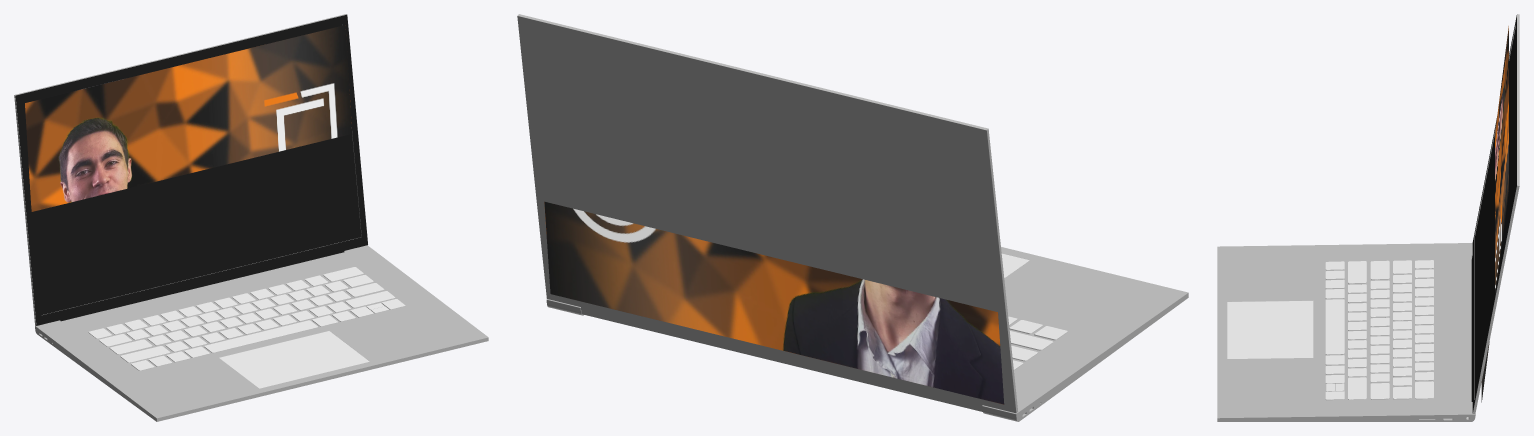
3 views of the same model, side by side, from view 1: azimuth 30°, elevation 25°; view 2: azimuth 150°, elevation 25°; view 3: azimuth 270°, elevation 25° (orthographic). The views are drawn at different scales.
Visible parts, largest first — view 1: Silver colour Cover, Screen; view 2: Silver colour Cover, Screen; view 3: Silver colour Cover, Screen.
Boxes of the visible parts, x1=… form: Silver colour Cover: x1=14, y1=14, x2=488, y2=421; Screen: x1=25, y1=25, x2=351, y2=211; Silver colour Cover: x1=517, y1=14, x2=1188, y2=421; Screen: x1=544, y1=201, x2=1004, y2=404; Silver colour Cover: x1=1217, y1=14, x2=1519, y2=421; Screen: x1=1481, y1=26, x2=1508, y2=402.
Size of the model in its own units: 0.38 by 0.2452 by 0.2828.
2 materials, 2 textured.
